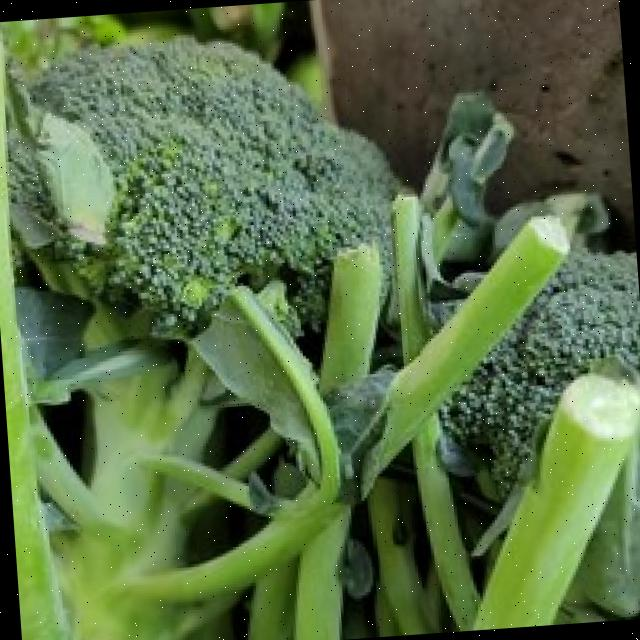Broccoli: (9, 37, 397, 334), (10, 37, 397, 334), (441, 251, 640, 494), (443, 251, 640, 494)
